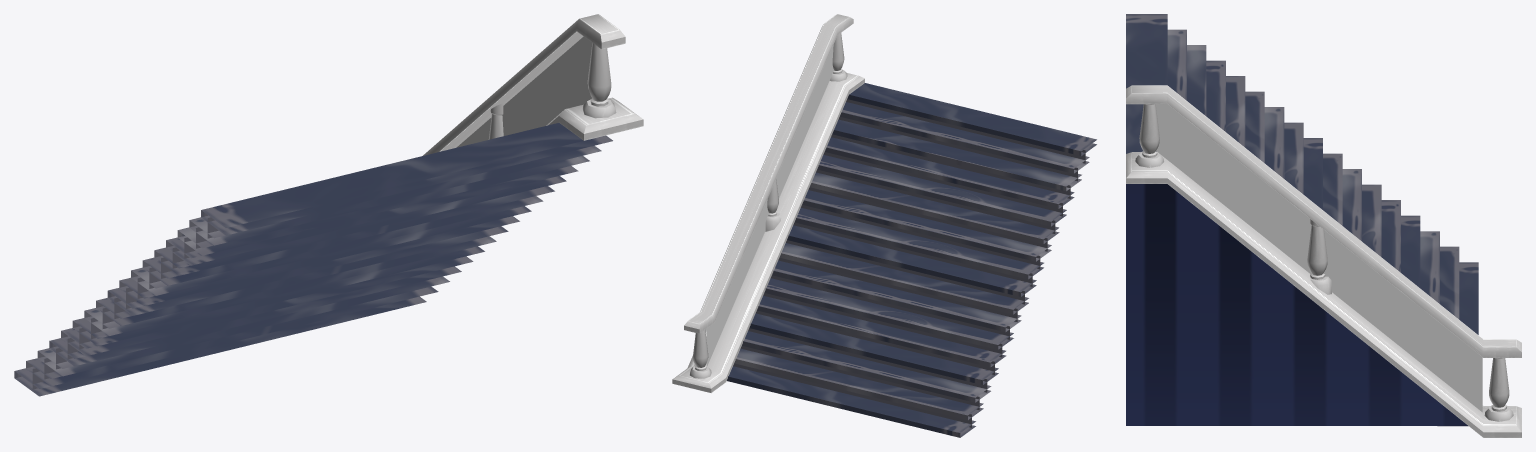
File: Stairs2.fbx
3 views of the same model, side by side, from view 1: azimuth 30°, elevation 25°; view 2: azimuth 150°, elevation 25°; view 3: azimuth 270°, elevation 25° (orthographic). The views are drawn at different scales.
Visible parts, largest first — view 1: Stars2, StarsRailings2; view 2: Stars2, StarsRailings2; view 3: Stars2, StarsRailings2.
Boxes of the visible parts, box(x1,y1,x2,y2) form: Stars2: box(14, 123, 612, 396); StarsRailings2: box(423, 14, 643, 155); Stars2: box(727, 83, 1096, 437); StarsRailings2: box(672, 14, 864, 392); Stars2: box(1126, 14, 1478, 426); StarsRailings2: box(1126, 85, 1521, 437).
Bounding box in the file's own units: 431 × 398 × 424.
